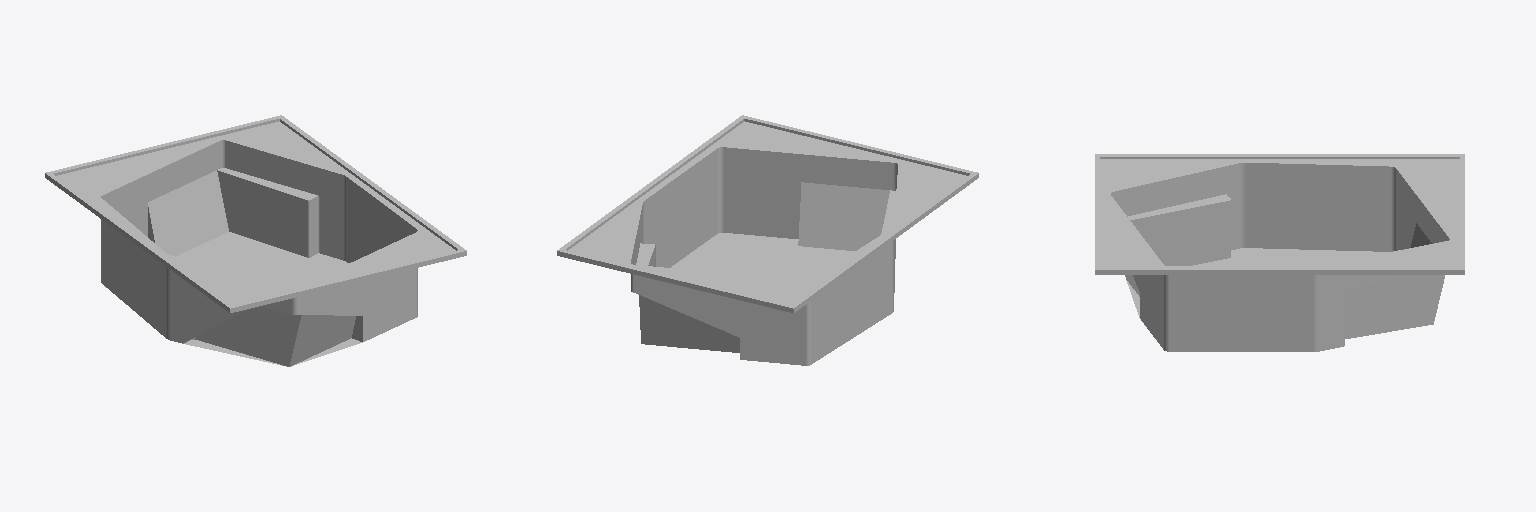
Rendered from SOMA_BLANCA.obj.
The picture shows the model from 3 angles: view 1: azimuth 30°, elevation 25°; view 2: azimuth 150°, elevation 25°; view 3: azimuth 270°, elevation 25°; orthographic projection.
Parts seen in each view (by area): view 1: Mesh1 Group1 Model; view 2: Mesh1 Group1 Model; view 3: Mesh1 Group1 Model.
Part boxes in pixels (left/top/right/bottom): Mesh1 Group1 Model: left=45, top=115, right=466, bottom=366; Mesh1 Group1 Model: left=557, top=115, right=978, bottom=365; Mesh1 Group1 Model: left=1095, top=154, right=1464, bottom=351.
Size of the model in its own units: 132 by 47 by 179.